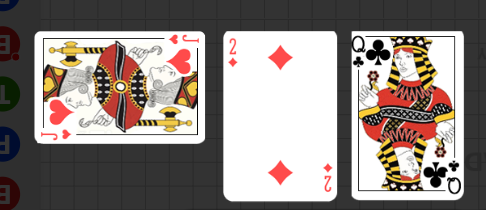2D: (321, 161, 334, 193), (227, 36, 239, 69)
JH: (40, 127, 73, 142)
QC: (353, 31, 397, 78), (420, 152, 464, 198)
